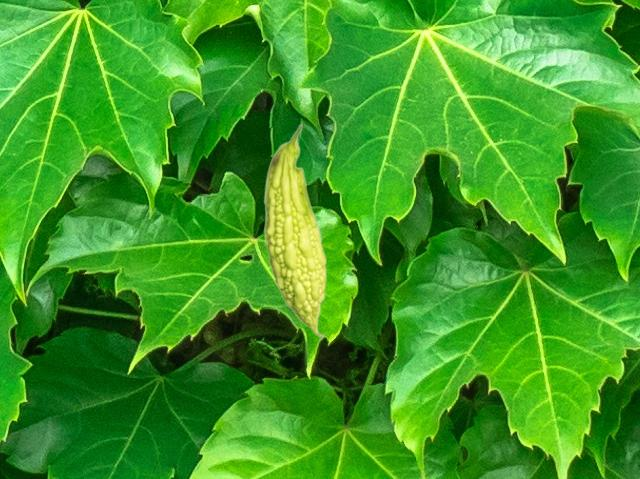ampalaya: (262, 123, 328, 342)
